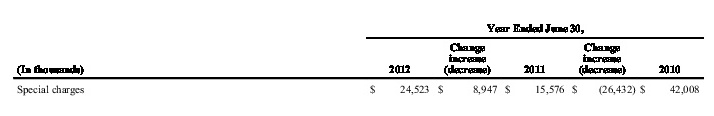table: (0, 0, 714, 116)
